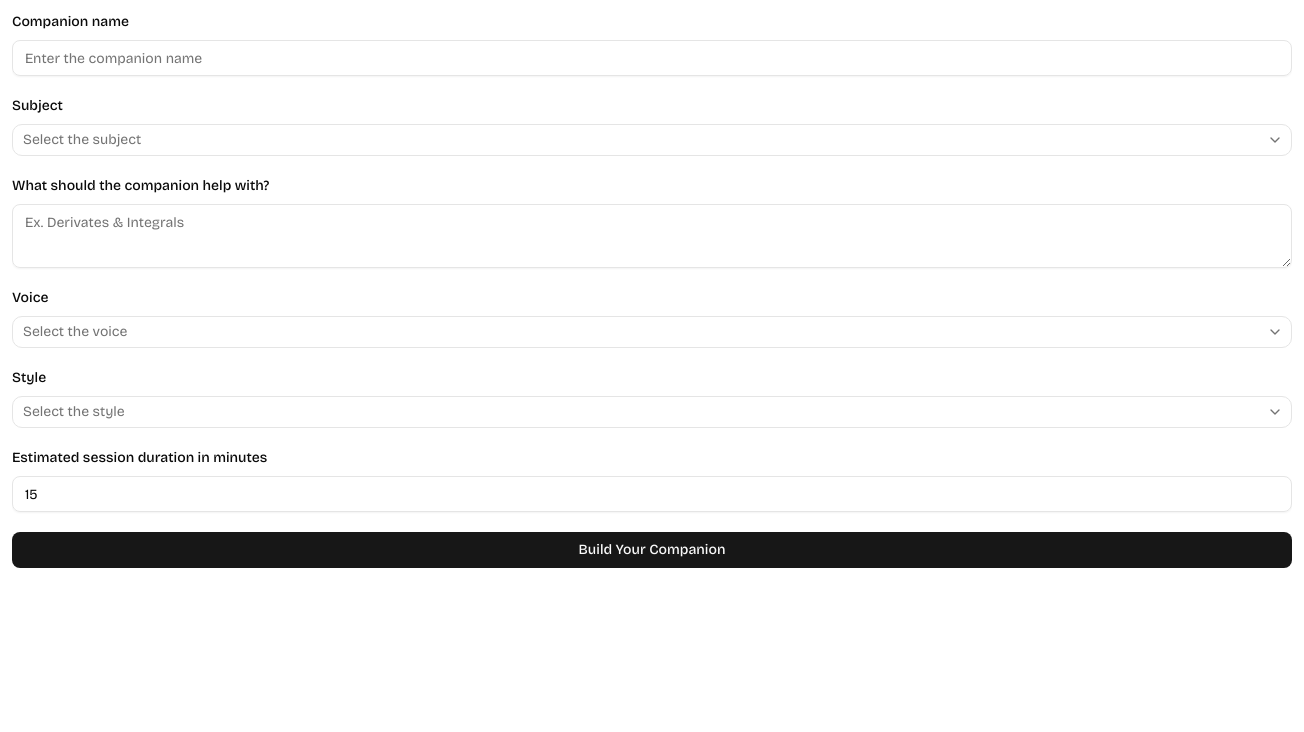
CompanionForm › muestra errores de Zod y no crea el companion si faltan campos
# El nombre tiene `required` nativo, así que lo llenamos para llegar a Zod
Type "Codey" into the field labelled "Companion name" at (652, 58), box [12,40,1292,76]
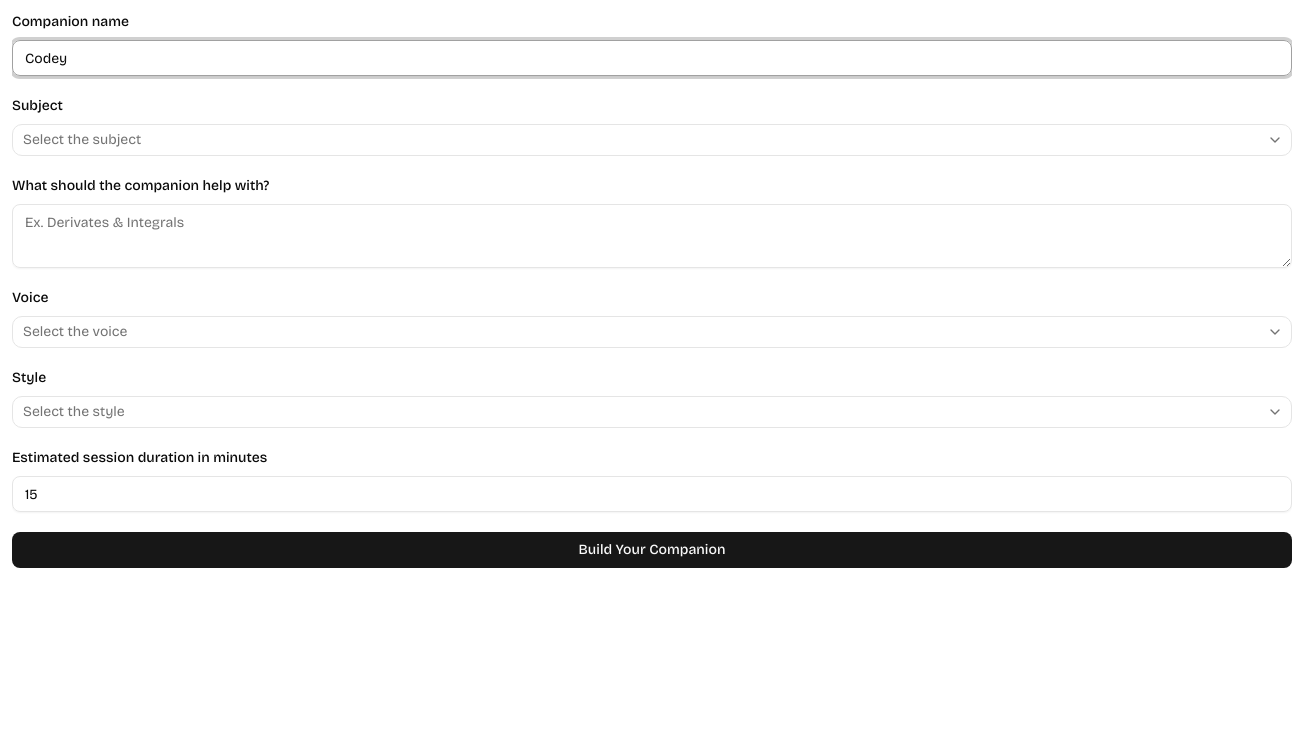
Click the button "Build Your Companion" at (652, 550), box [12,532,1292,568]
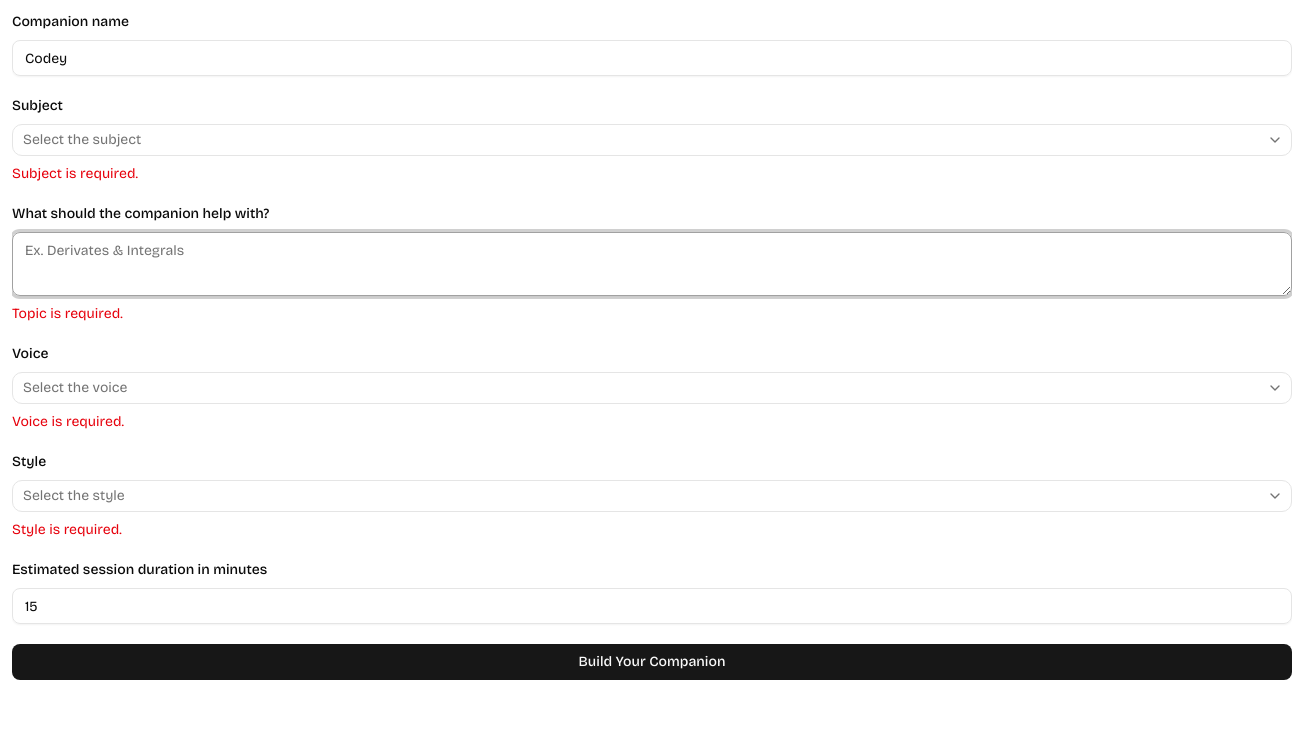
Result: the text "Subject is required." is shown at [12,165,138,182]
Result: the text "Topic is required." is shown at [12,305,123,322]
Result: the text "Voice is required." is shown at [12,413,124,430]
